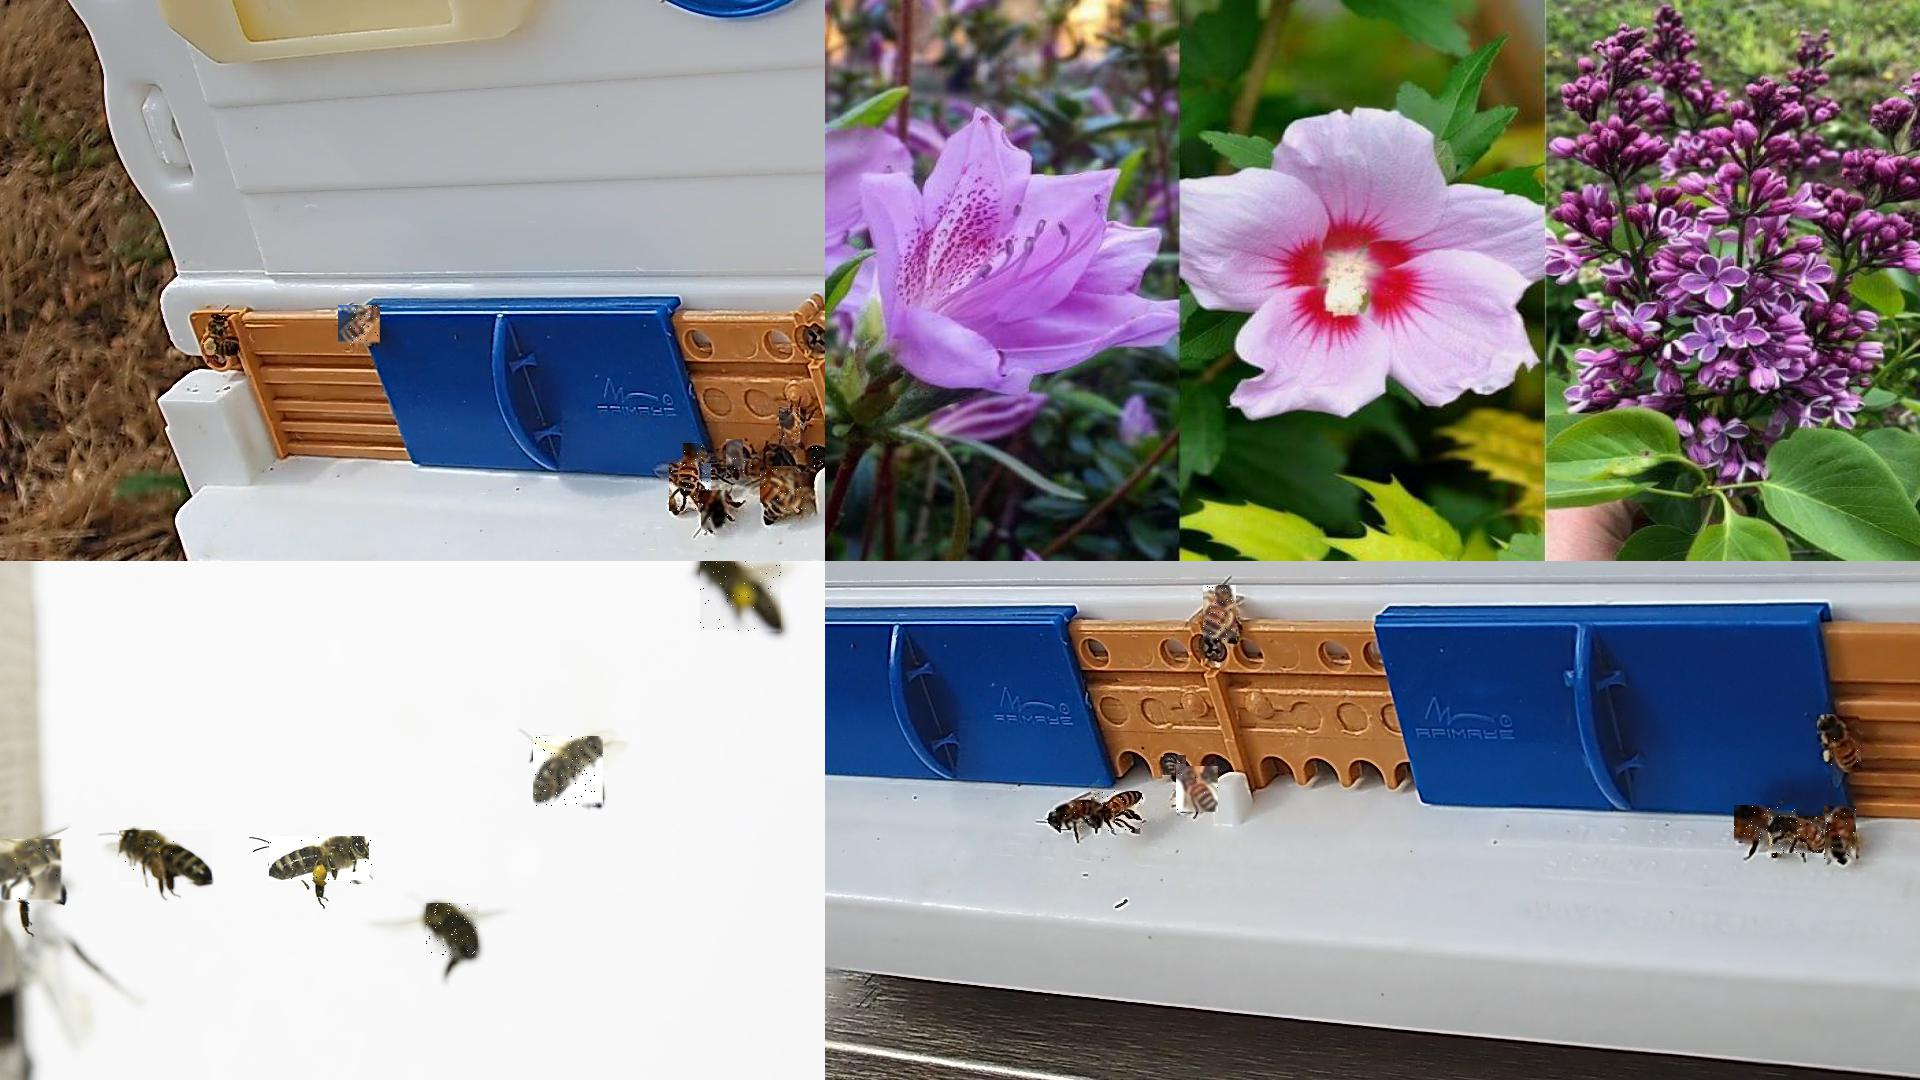bee: (533, 737, 604, 808), (0, 839, 66, 905), (426, 904, 479, 957), (1734, 806, 1797, 844), (1768, 817, 1826, 858), (670, 463, 716, 512), (1091, 792, 1143, 834), (1176, 766, 1219, 813), (1203, 586, 1237, 643), (338, 306, 381, 347), (1050, 800, 1104, 829), (761, 467, 799, 506), (702, 491, 730, 533), (684, 444, 705, 495), (734, 454, 782, 476), (780, 408, 805, 450), (1162, 756, 1187, 780), (726, 440, 744, 469), (811, 444, 824, 472)
pollenbee: (700, 561, 783, 634), (119, 831, 213, 885), (270, 837, 374, 885), (1818, 715, 1862, 773), (1824, 807, 1857, 863), (773, 473, 814, 512), (203, 315, 240, 355)
